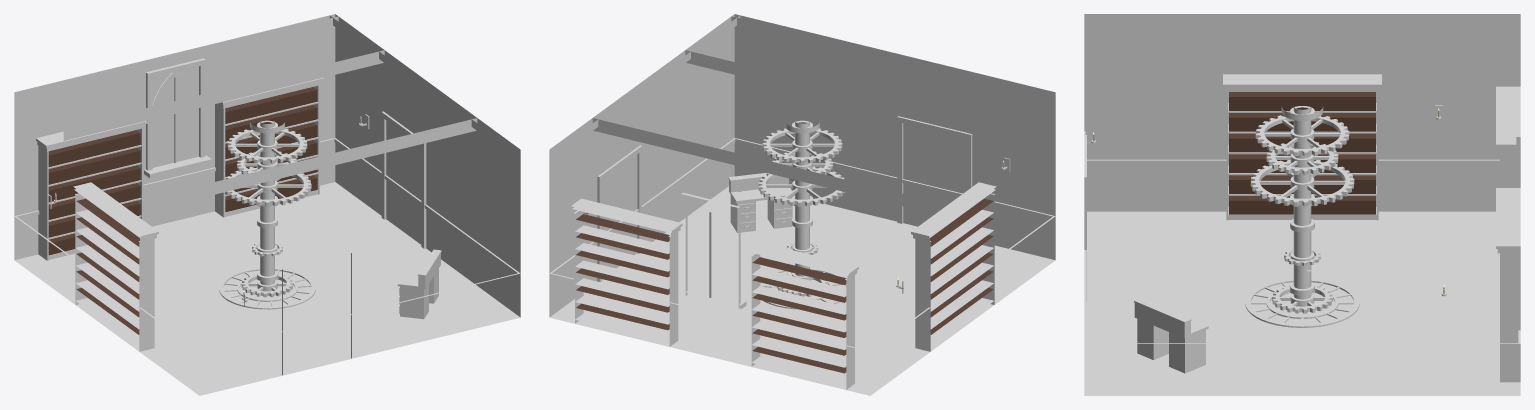
File: study.glb
3 views of the same model, side by side, from view 1: azimuth 30°, elevation 25°; view 2: azimuth 150°, elevation 25°; view 3: azimuth 270°, elevation 25° (orthographic). The views are drawn at different scales.
Parts seen in each view (by area): view 1: study, door-plug-e, door-frame-e; view 2: study, door-plug-s, door-plug-e, door-frame-s, door-frame-e; view 3: study, door-frame-s.
Part boxes in pixels (x1,y1,x2,y2): study: (14,14,520,395); door-plug-e: (384,121,421,244); door-frame-e: (381,111,426,248); study: (549,14,1055,395); door-plug-s: (902,123,966,226); door-plug-e: (602,155,638,268); door-frame-s: (897,116,972,223); door-frame-e: (597,145,641,281); study: (1084,14,1520,395); door-frame-s: (1084,135,1086,301).
Bounding box in the file's own units: 8 × 4 × 8.
